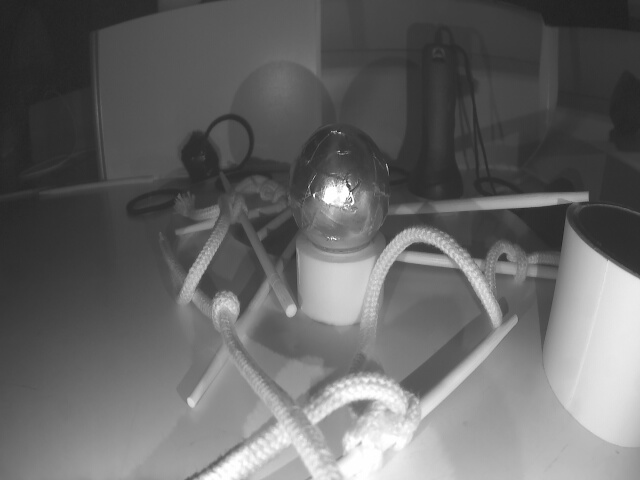Dead: (184, 134, 216, 176)
Live: (293, 128, 390, 251)
